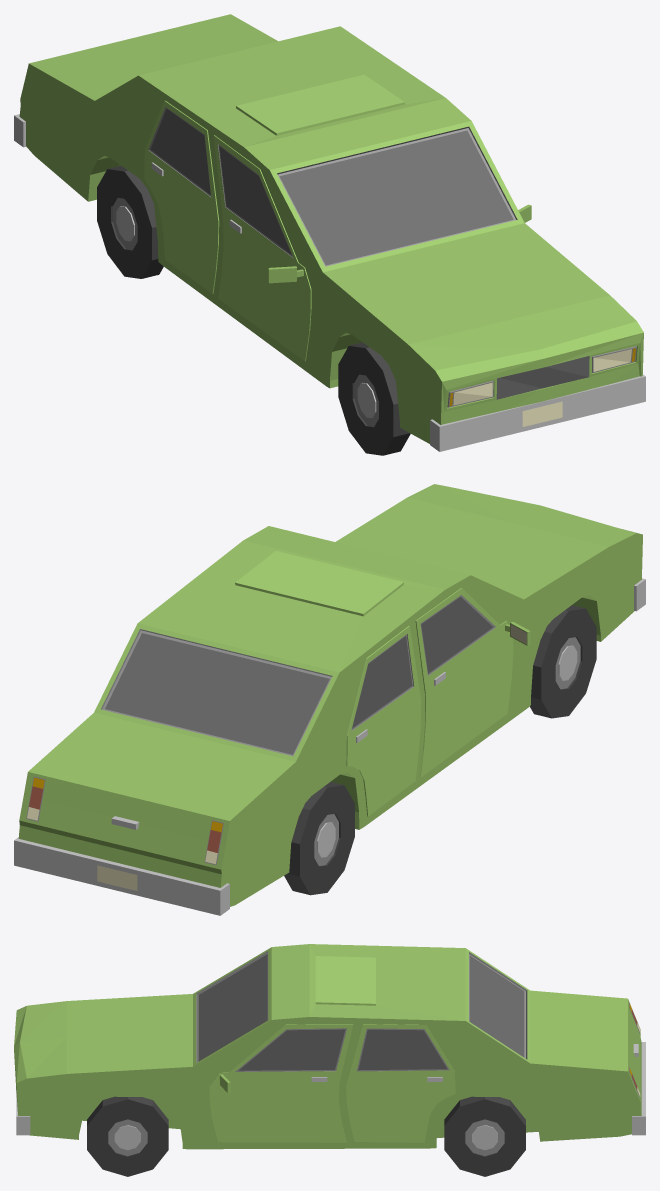
The model's file is old car_1.fbx.
The picture shows the model from 3 angles, top to bottom: view 1: azimuth 30°, elevation 25°; view 2: azimuth 150°, elevation 25°; view 3: azimuth 270°, elevation 25°; orthographic projection. The views are drawn at different scales.
Parts seen in each view (by area): view 1: vcv, Cylinder_2_5, Cylinder_2_7; view 2: vcv, Cylinder_2_7, Cylinder_2_5; view 3: vcv, Cylinder_2_6, Cylinder_2_4.
Part boxes in pixels (left/top/right/bottom): vcv: left=14, top=14, right=645, bottom=451; Cylinder_2_5: left=338, top=342, right=410, bottom=455; Cylinder_2_7: left=97, top=165, right=163, bottom=278; vcv: left=14, top=484, right=645, bottom=915; Cylinder_2_7: left=284, top=782, right=354, bottom=895; Cylinder_2_5: left=530, top=605, right=596, bottom=718; vcv: left=14, top=944, right=645, bottom=1149; Cylinder_2_6: left=444, top=1096, right=525, bottom=1176; Cylinder_2_4: left=87, top=1096, right=168, bottom=1176.
Size of the model in its own units: 169 by 134 by 476.
